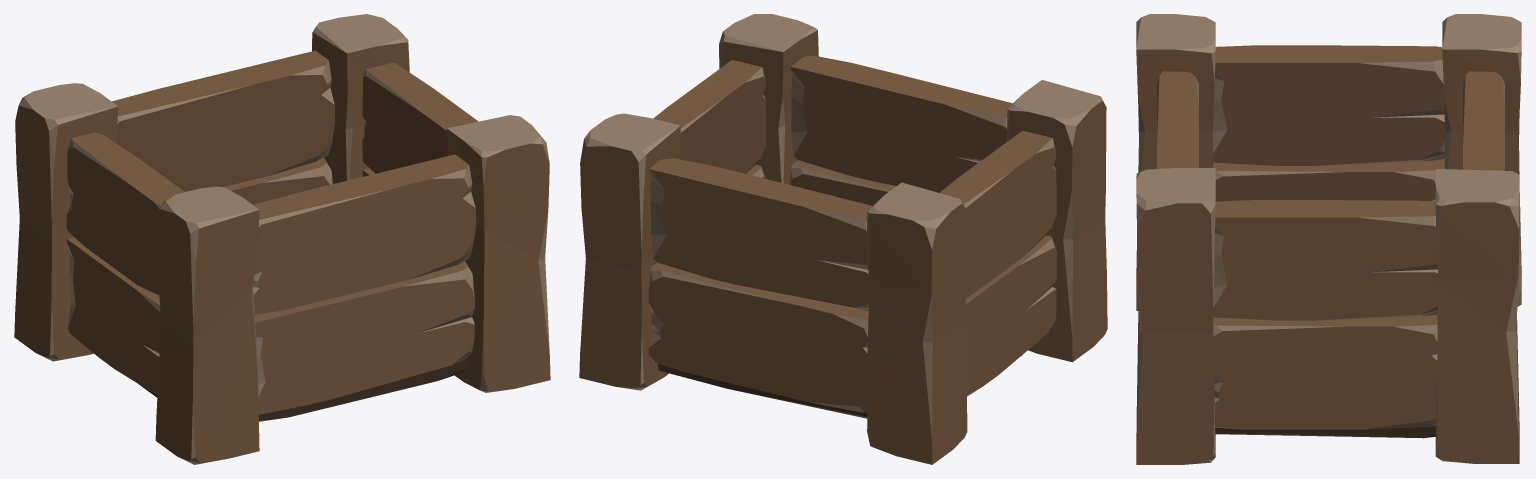
Rendered from Wooden_box_B_02.FBX.
3 renders of one model, left to right at view 1: azimuth 30°, elevation 25°; view 2: azimuth 150°, elevation 25°; view 3: azimuth 270°, elevation 25°, orthographic. The views are drawn at different scales.
Parts seen in each view (by area): view 1: Wooden_box_B_02; view 2: Wooden_box_B_02; view 3: Wooden_box_B_02.
Boxes of the visible parts, x1,y1,x2,y2 form: Wooden_box_B_02: [14, 14, 550, 464]; Wooden_box_B_02: [579, 14, 1107, 464]; Wooden_box_B_02: [1136, 14, 1521, 464].
Size of the model in its own units: 1.35 by 0.8688 by 1.16.
